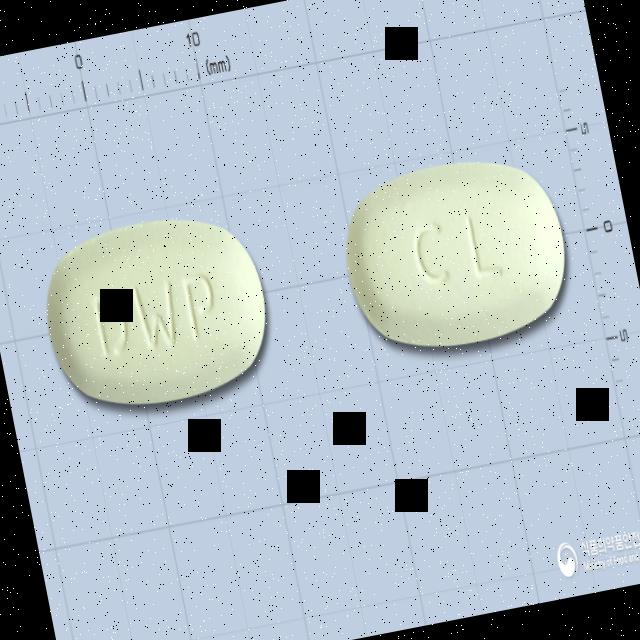Clacin: (28, 196, 287, 430), (328, 141, 584, 369)
